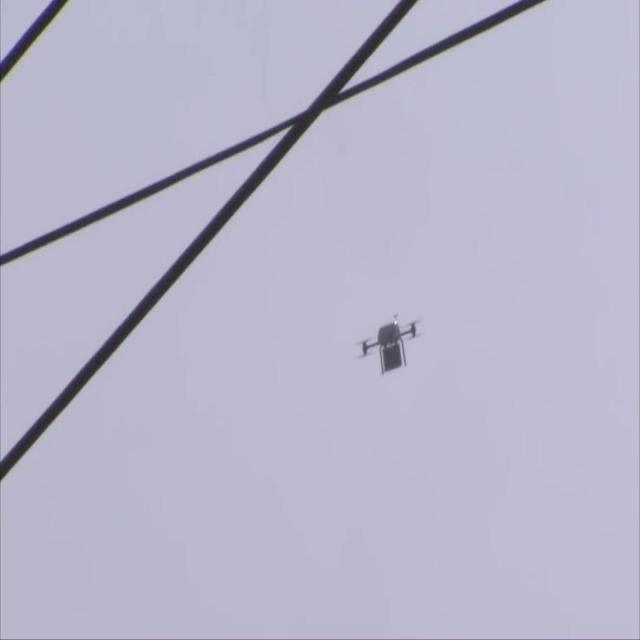drone: (353, 306, 422, 378)
